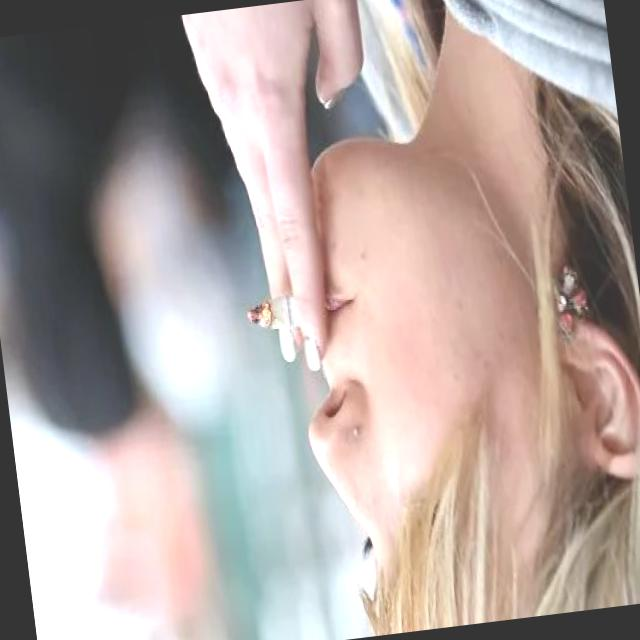smoke: (234, 290, 317, 343)
